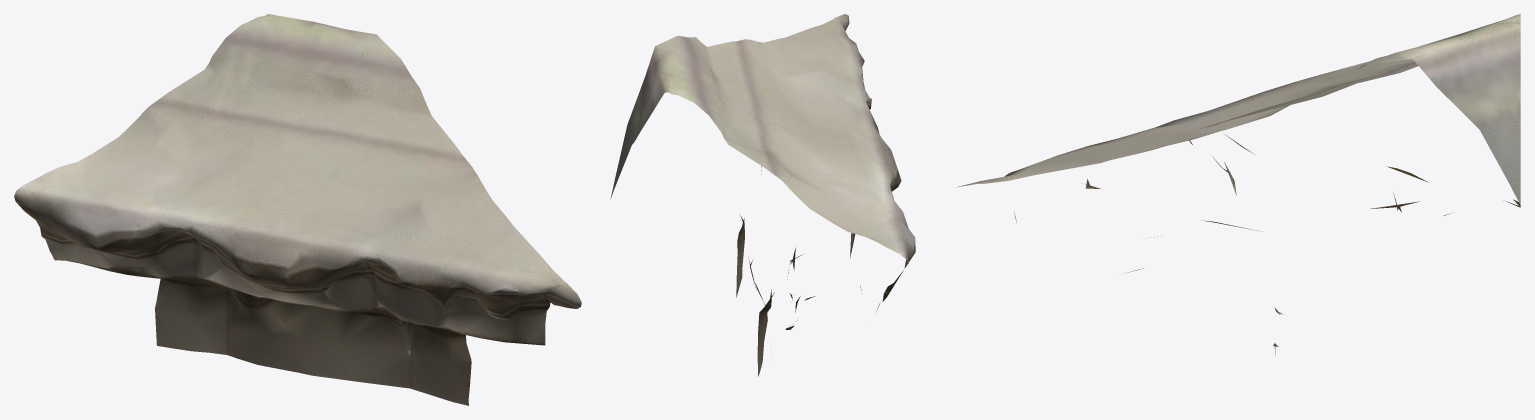
3 views of the same model, side by side, from view 1: azimuth 30°, elevation 25°; view 2: azimuth 150°, elevation 25°; view 3: azimuth 270°, elevation 25° (orthographic). The views are drawn at different scales.
Size of the model in its own units: 2.02 by 1.88 by 2.8.
Materials: 1 (1 with a texture image).
